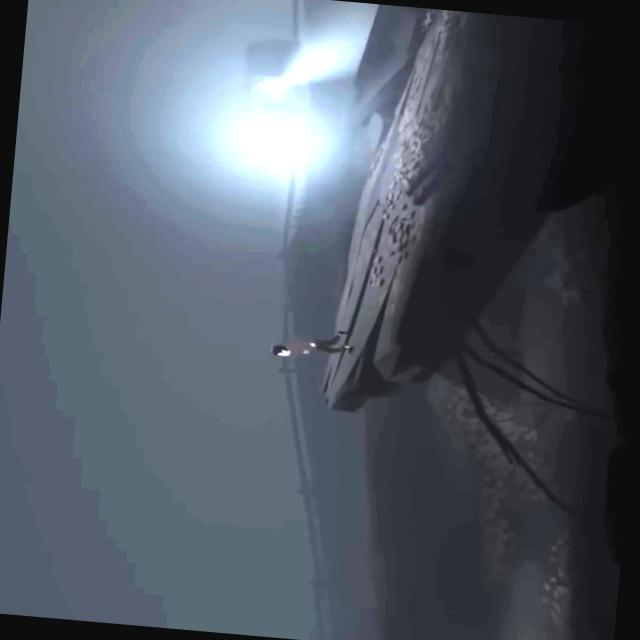boy: (269, 326, 352, 363)
